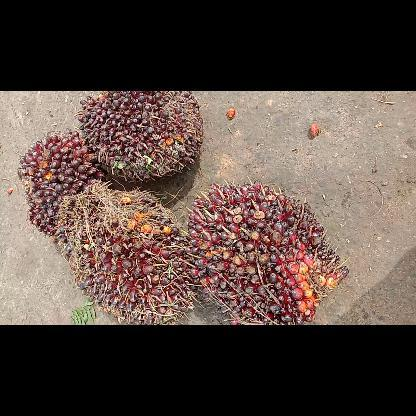Kurang masak: (180, 178, 348, 324), (63, 188, 201, 324), (78, 90, 204, 180), (17, 130, 105, 236)
